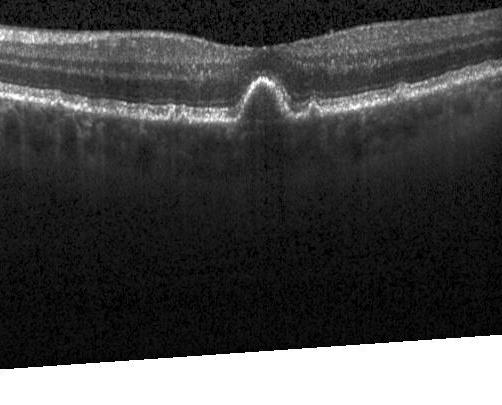retinal_drusen: (241, 82, 285, 122), (306, 103, 323, 119), (394, 89, 407, 102), (484, 64, 495, 77), (52, 99, 64, 109), (178, 113, 189, 123), (168, 112, 175, 122)
